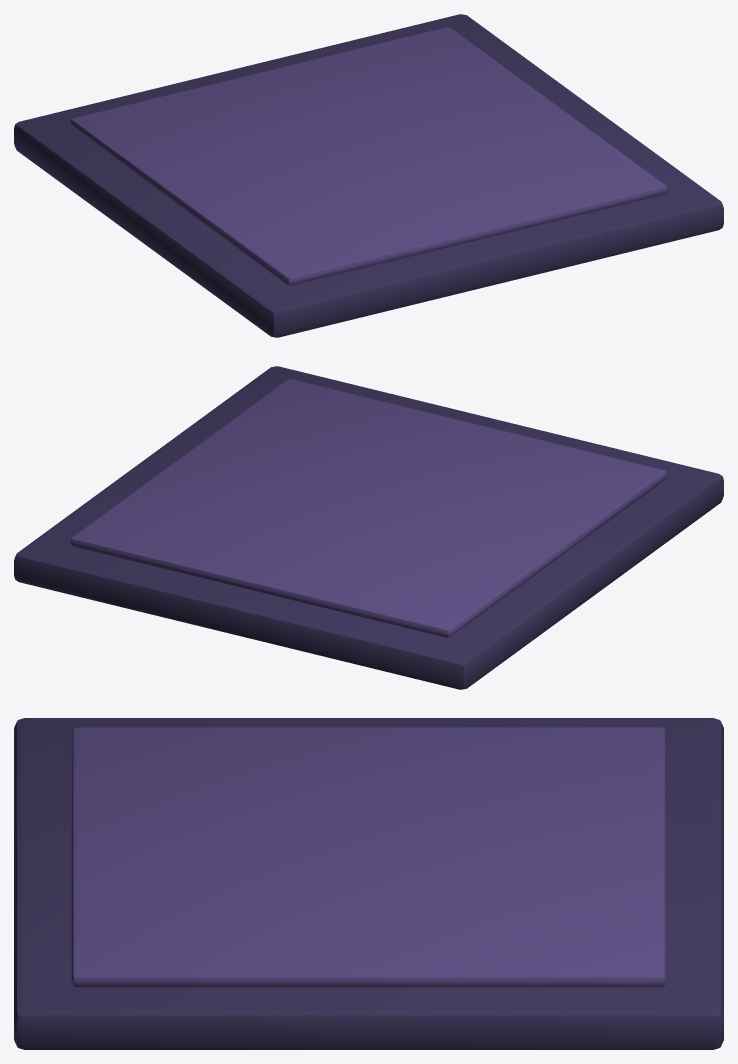
The model's file is Fortress_Map_Kit.fbx.
3 renders of one model, top to bottom at view 1: azimuth 30°, elevation 25°; view 2: azimuth 150°, elevation 25°; view 3: azimuth 270°, elevation 25°, orthographic. The views are drawn at different scales.
Visible parts, largest first — view 1: SM_FloorPanel, SM_FloorTile; view 2: SM_FloorPanel, SM_FloorTile; view 3: SM_FloorPanel, SM_FloorTile.
Boxes of the visible parts, x1,y1,x2,y2 form: SM_FloorPanel: (70, 27, 667, 285); SM_FloorTile: (14, 14, 723, 337); SM_FloorPanel: (70, 379, 667, 637); SM_FloorTile: (14, 366, 723, 689); SM_FloorPanel: (71, 727, 666, 987); SM_FloorTile: (14, 718, 723, 1049).
Bounding box in the file's own units: 400 × 33 × 400.
